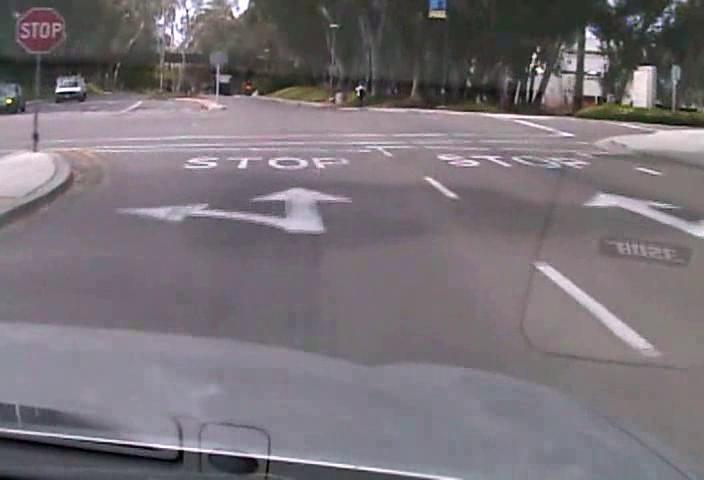stop: (15, 6, 66, 53)
